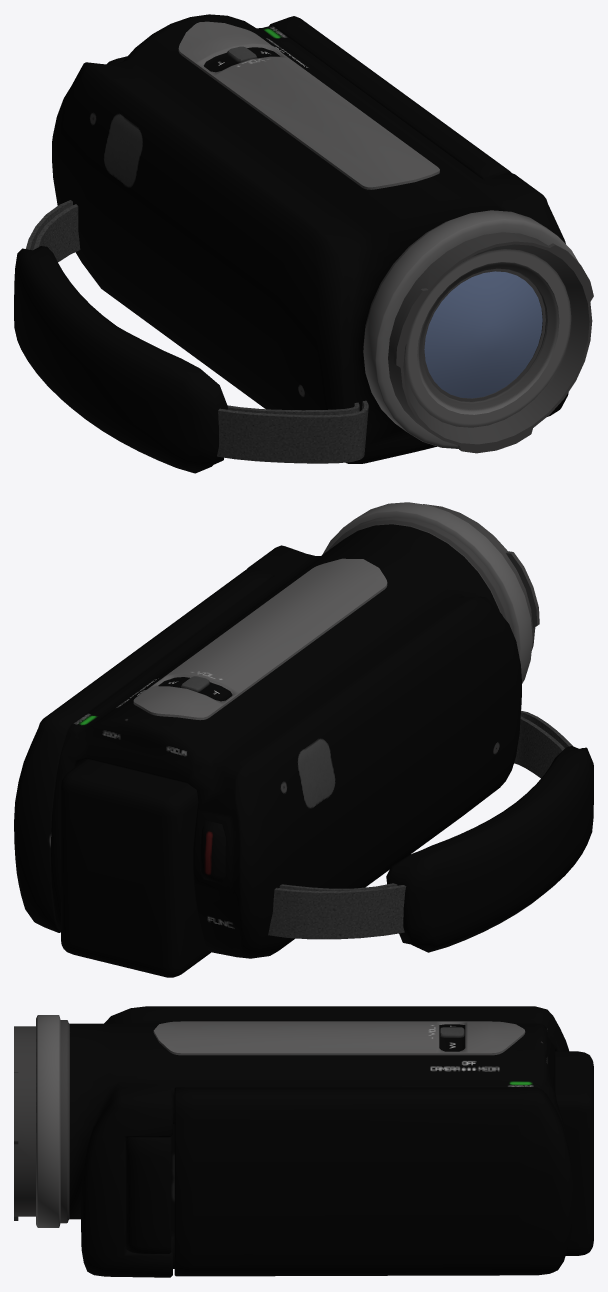
The model's file is Camera.fbx.
3 renders of one model, top to bottom at view 1: azimuth 30°, elevation 25°; view 2: azimuth 150°, elevation 25°; view 3: azimuth 270°, elevation 25°, orthographic. The views are drawn at different scales.
Visible parts, largest first — view 1: Camera, Axle.001; view 2: Camera, Axle.001; view 3: Axle.001, Camera.
Part boxes in pixels (x1,y1,x2,y2): Camera: (14,14,593,473); Axle.001: (269,16,511,180); Camera: (51,502,593,977); Axle.001: (14,567,273,932); Axle.001: (126,1087,573,1276); Camera: (14,1006,593,1277).
Size of the model in its own units: 355 by 213 by 528.
